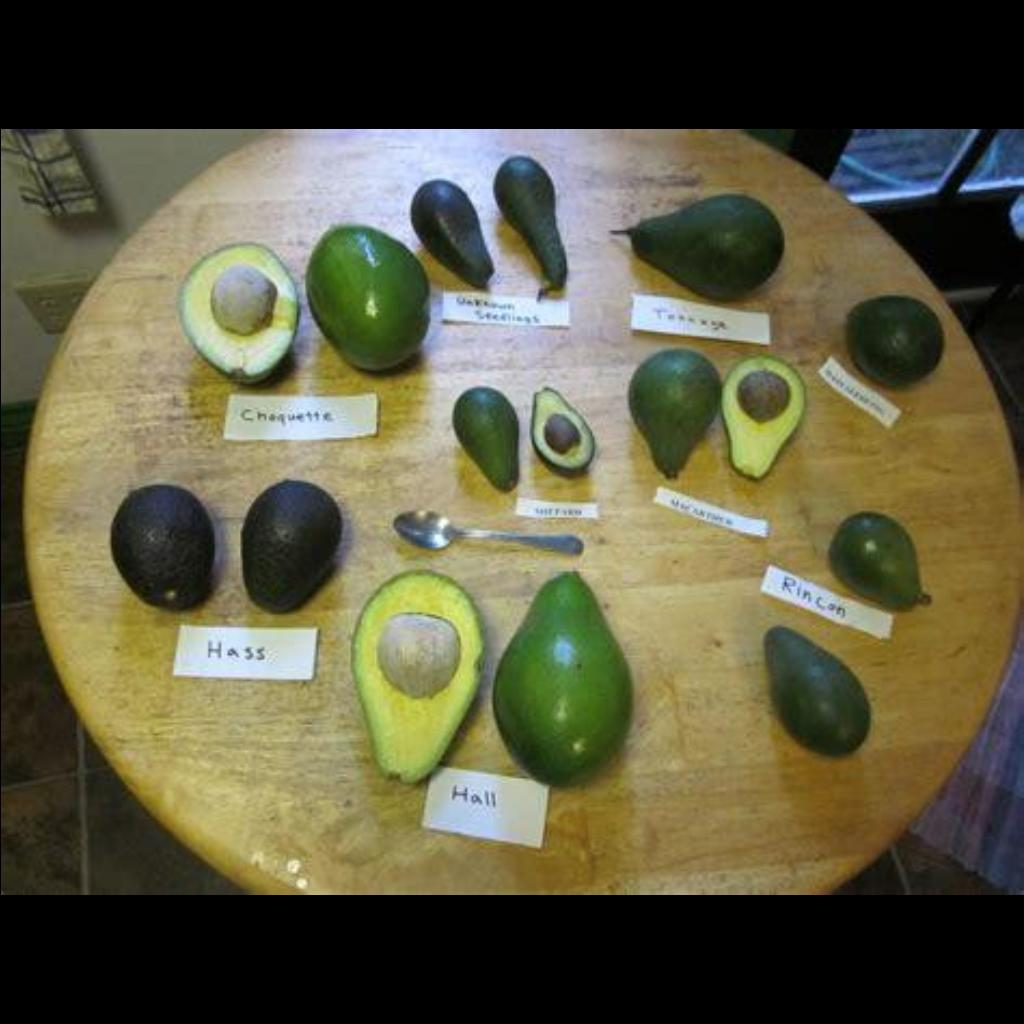Healthy: (356, 550, 662, 774), (151, 226, 445, 378), (569, 338, 755, 492), (802, 470, 950, 620)
